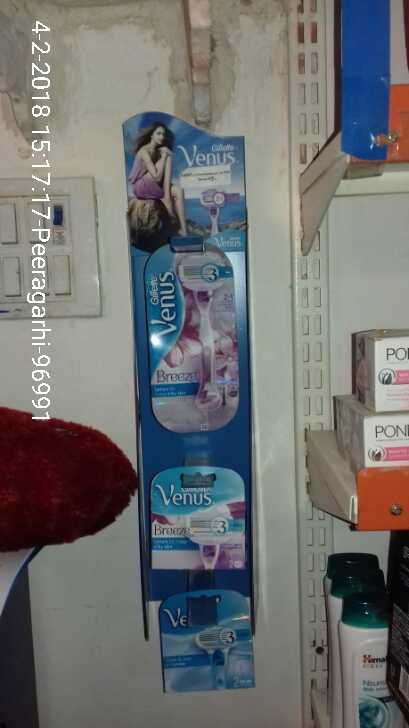venus: (140, 225, 248, 433), (140, 459, 256, 574), (154, 585, 267, 696)
